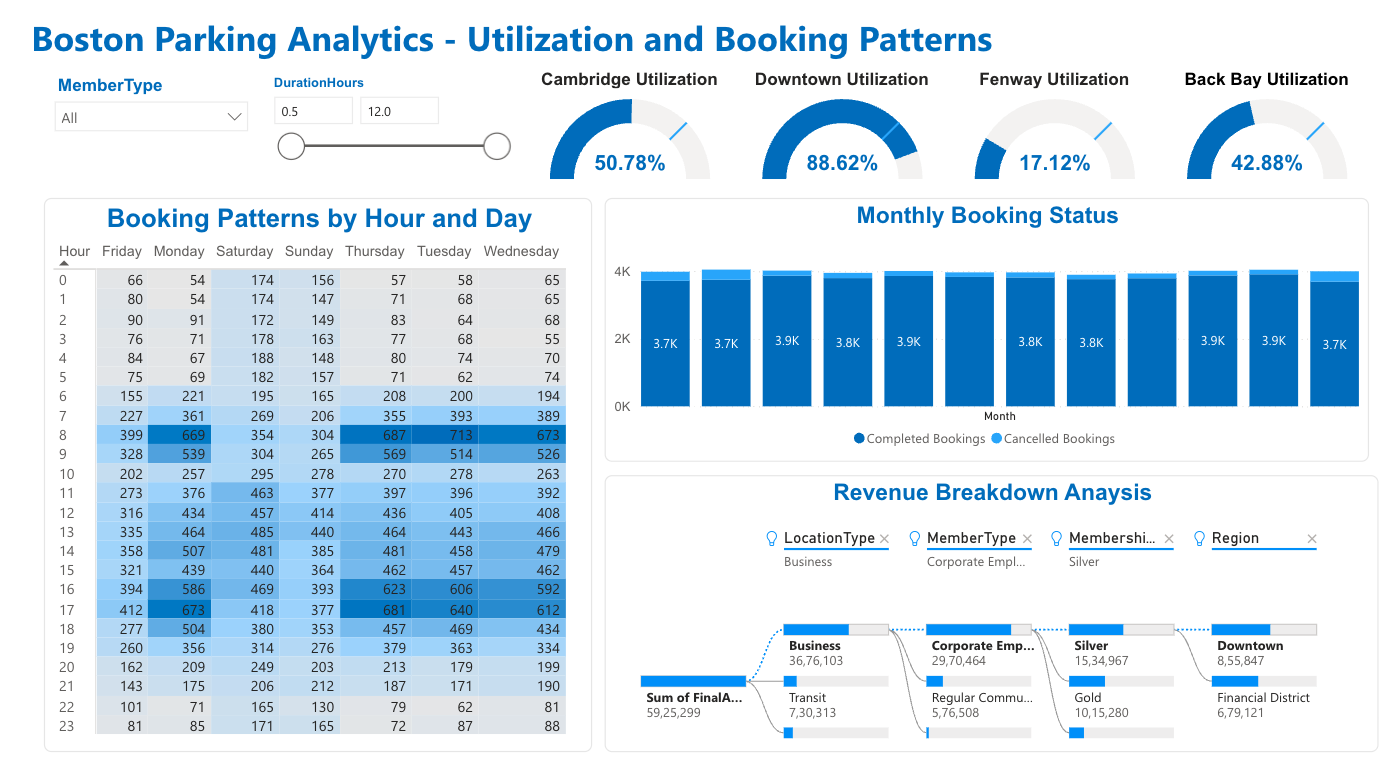

What the dashboard file says about the page in this screenshot:
{"tool":"powerbi","page":{"name":"Utilization and Booking Patterns","canvas":[1280,720],"ordinal":1},"visuals":[{"type":"pivotTable","title":"Booking Patterns by Hour and Day","fields":{"Rows":["Time.Hour"],"Columns":["Time.DayName"],"Values":["Bookings.Total Bookings"]},"box":[26.2,193.7,510.5,515.8],"z":0},{"type":"columnChart","title":"Monthly Booking Status","fields":{"Category":["Time.Month"],"Y":["Bookings.Completed Bookings","Bookings.Cancelled Bookings"]},"box":[547.2,193.7,710.8,246.1],"z":1000},{"type":"gauge","title":"Downtown Utilization ","fields":{"Y":["Bookings.Downtown Utilization Rate"]},"box":[674.2,73.3,188.5,107.3],"z":2000},{"type":"gauge","title":"Back Bay Utilization ","fields":{"Y":["Bookings.Back Bay Utilization Rate"]},"box":[1069.5,73.3,188.5,107.3],"z":3000},{"type":"gauge","title":"Cambridge Utilization ","fields":{"Y":["Bookings.Cambridge Utilization Rate"]},"box":[476.5,73.3,188.5,107.3],"z":4000},{"type":"gauge","title":"Fenway Utilization ","fields":{"Y":["Bookings.Fenway Utilization Rate"]},"box":[871.9,73.3,188.5,107.3],"z":5000},{"type":"textbox","box":[9.2,17,983.1,56.3],"z":6000},{"type":"decompositionTreeVisual","title":"Revenue Breakdown Anaysis","fields":{"Analyze":["Sum(Bookings.FinalAmount)"],"ExplainBy":["Locations.LocationType","Members.MemberType","Members.MembershipLevel","Locations.Region"]},"box":[547.2,451.6,720,257.9],"z":7000},{"type":"slicer","fields":{"Values":["Members.MemberType"]},"box":[26.2,73.3,200.3,85.1],"z":8000},{"type":"slicer","fields":{"Values":["Bookings.DurationHours"]},"box":[226.5,73.3,240.9,111.3],"z":9000}]}

Visuals, with their boxes in screenshot pixels (x1, y1, x2, y2), scaled from the page's 1280x720 canvas onto the 1392x763 screenshot:
"Booking Patterns by Hour and Day" pivotTable: box(28, 205, 584, 752)
"Monthly Booking Status" columnChart: box(595, 205, 1368, 466)
"Downtown Utilization " gauge: box(733, 78, 938, 191)
"Back Bay Utilization " gauge: box(1163, 78, 1368, 191)
"Cambridge Utilization " gauge: box(518, 78, 723, 191)
"Fenway Utilization " gauge: box(948, 78, 1153, 191)
textbox: box(10, 18, 1079, 78)
"Revenue Breakdown Anaysis" decompositionTreeVisual: box(595, 479, 1378, 752)
slicer - Members.MemberType: box(28, 78, 246, 168)
slicer - Bookings.DurationHours: box(246, 78, 508, 196)
